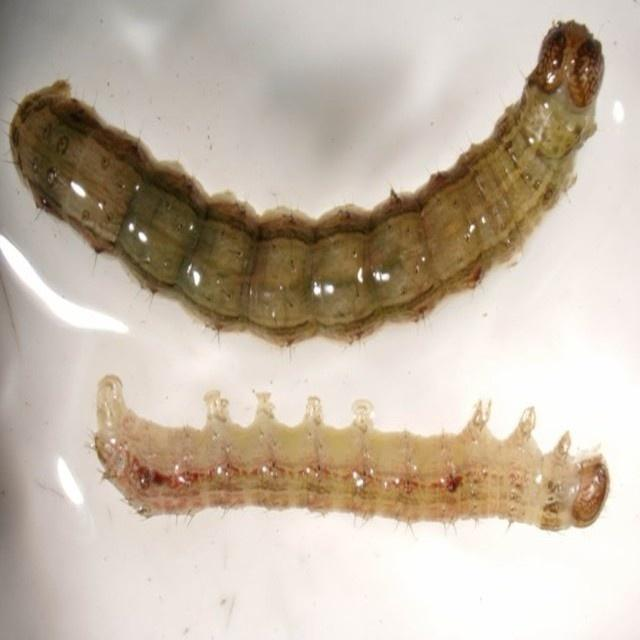gusano_cogollero: (8, 15, 614, 349), (88, 369, 612, 536)
